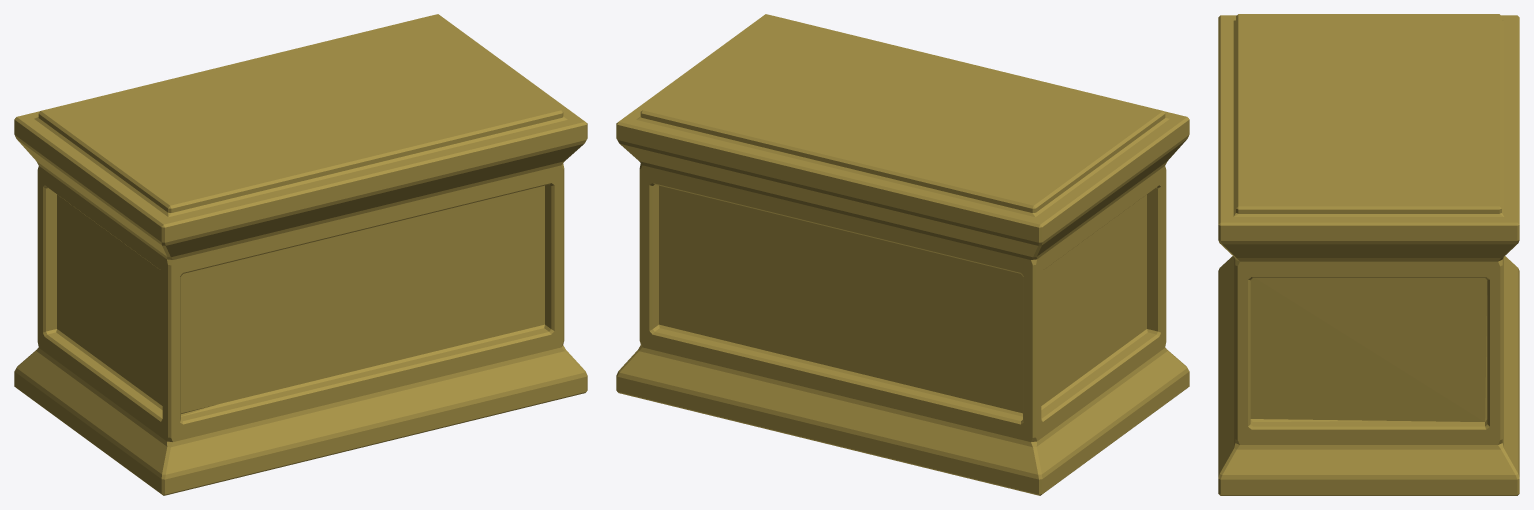
The model's file is altar.fbx.
3 views of the same model, side by side, from view 1: azimuth 30°, elevation 25°; view 2: azimuth 150°, elevation 25°; view 3: azimuth 270°, elevation 25° (orthographic).
Visible parts, largest first — view 1: Altar; view 2: Altar; view 3: Altar.
Part boxes in pixels (bbox=[...]): Altar: bbox=[14, 14, 587, 495]; Altar: bbox=[616, 14, 1189, 495]; Altar: bbox=[1218, 14, 1519, 495].
Bounding box in the file's own units: 1.91 × 1.2 × 1.16.
